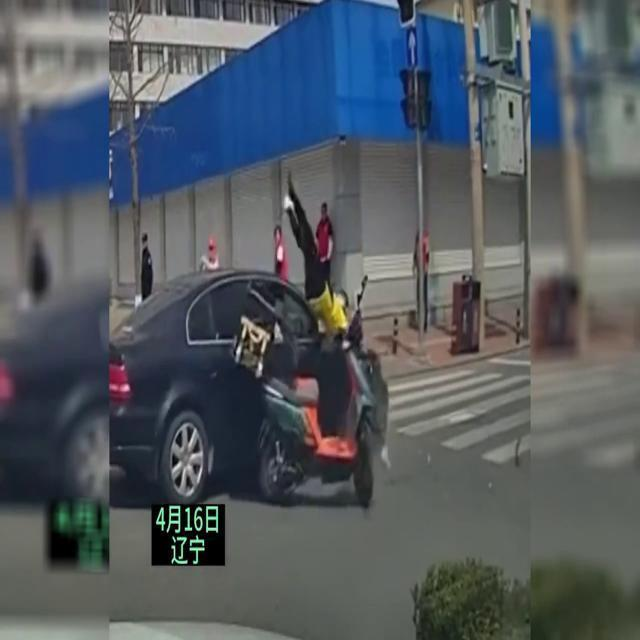accident: (113, 172, 385, 508)
